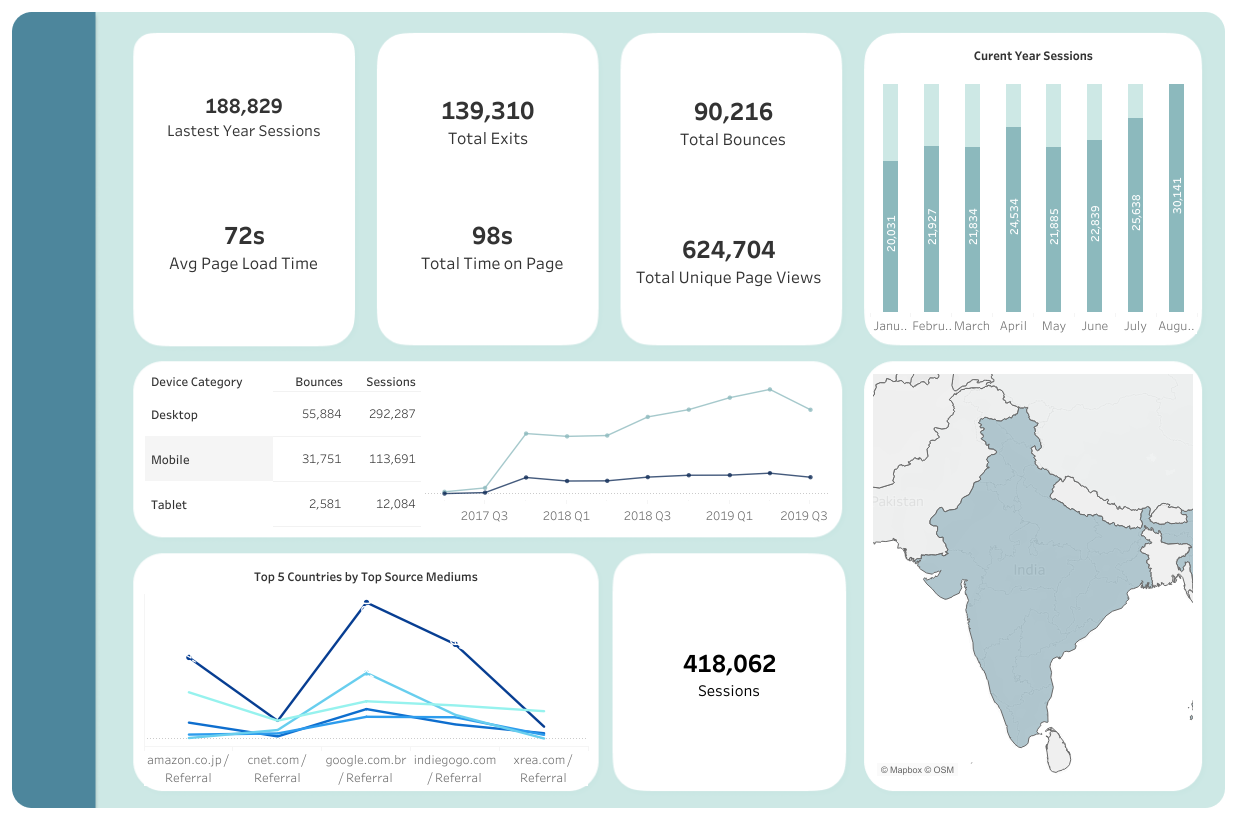

The dashboard page shown, as its layout file describes it:
{"tool":"tableau","page":{"name":"Dashboard 2","canvas":[1000,1000],"units":"permille","ordinal":1},"visuals":[{"type":"image","param":"Image/MacBook Air - 1 (1).png","box":[6.5,9.8,987.1,980.5]},{"type":"worksheet","title":"Unique Views_Map","mark":"Automatic","box":[701.6,52.4,258.1,351.2]},{"type":"worksheet","title":"Latest Yr Sessions","mark":"Automatic","box":[112.9,58.5,168.6,167.1]},{"type":"worksheet","title":"Exits","mark":"Automatic","box":[315.3,62.2,157.3,170.7]},{"type":"worksheet","title":"Bounces","mark":"Automatic","box":[512.9,65.8,158.1,164.6]},{"type":"worksheet","title":"Page load time","mark":"Automatic","box":[115.3,207.3,163.7,185.4]},{"type":"worksheet","title":"Time on Page","mark":"Automatic","box":[319.4,219.5,155.7,159.8]},{"type":"worksheet","title":"Unique Views","mark":"Automatic","box":[503.2,234.2,170.2,164.6]},{"type":"worksheet","title":"Line_Chart_CR Yr","mark":"Automatic","rows":["Sessions","Bounces"],"cols":["Date"],"box":[344.4,448.8,324.2,196.3]},{"type":"worksheet","title":"Line KPI's","mark":"Automatic","rows":["Device Category"],"box":[116.9,452.4,222.6,189]},{"type":"worksheet","title":"Bar Chart_CR Yr","mark":"Bar","rows":["Calculation_1157706597895204878","Sessions"],"cols":["Date"],"box":[704.8,453.7,257.3,497.6]},{"type":"worksheet","title":"Top 5 Countries by Source Medium","mark":"Line","rows":["Pageviews"],"cols":["Source Medium"],"box":[116.1,684.1,358.1,274.4]},{"type":"worksheet","title":"Sessionss","mark":"Automatic","box":[502.4,696.3,172.6,248.8]}]}

Visuals, with their boxes on the dashboard's canvas, which has no fixed pixel size, in thousandths of its width and height (x1, y1, x2, y2). These are canvas units, not pixel positions in the 1239x819 screenshot, which may show the page scaled, cropped or inside an application window:
image: (6, 10, 994, 990)
"Unique Views_Map" worksheet: (702, 52, 960, 404)
"Latest Yr Sessions" worksheet: (113, 58, 282, 226)
"Exits" worksheet: (315, 62, 473, 233)
"Bounces" worksheet: (513, 66, 671, 230)
"Page load time" worksheet: (115, 207, 279, 393)
"Time on Page" worksheet: (319, 220, 475, 379)
"Unique Views" worksheet: (503, 234, 673, 399)
"Line_Chart_CR Yr" worksheet: (344, 449, 669, 645)
"Line KPI's" worksheet: (117, 452, 340, 641)
"Bar Chart_CR Yr" worksheet (Bar marks): (705, 454, 962, 951)
"Top 5 Countries by Source Medium" worksheet (Line marks): (116, 684, 474, 958)
"Sessionss" worksheet: (502, 696, 675, 945)
